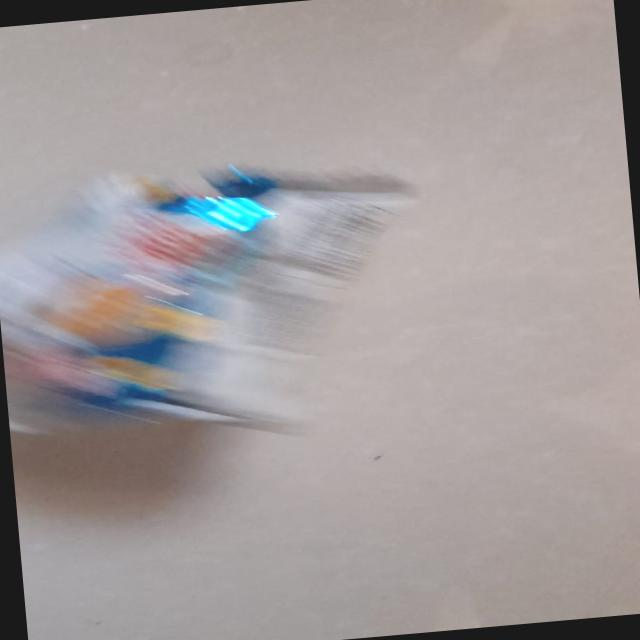Plastic - Recyclable: (0, 144, 443, 461)
